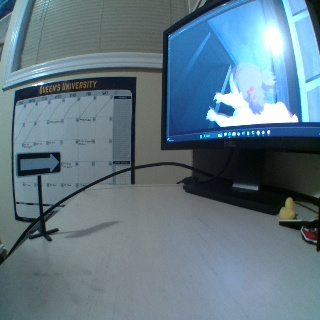sign_oneway_right: (13, 152, 61, 174)
